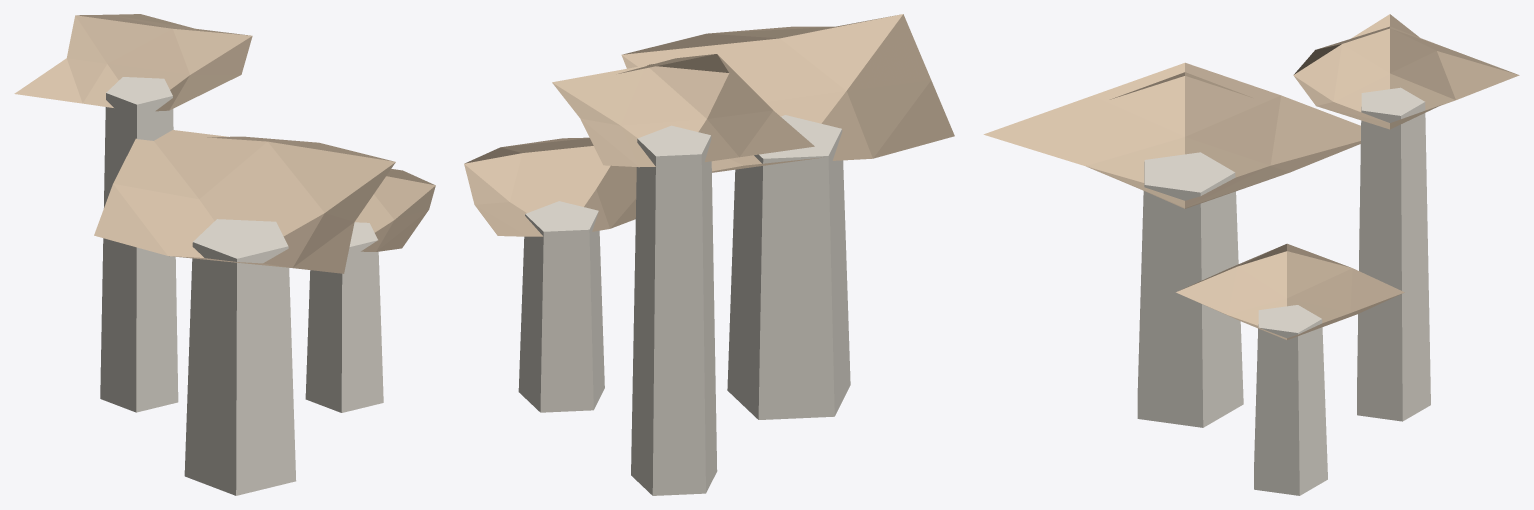
Rendered from mushroom_v13.glb.
3 views of the same model, side by side, from view 1: azimuth 30°, elevation 25°; view 2: azimuth 150°, elevation 25°; view 3: azimuth 270°, elevation 25° (orthographic). The views are drawn at different scales.
Visible parts, largest first — view 1: lod0; view 2: lod0; view 3: lod0.
Boxes of the visible parts, <box> form: lod0: <box>14,14,435,495</box>; lod0: <box>464,14,954,495</box>; lod0: <box>983,14,1519,495</box>.
Size of what is drawn, in the model's own units: 0.4581 by 0.4244 by 0.5455.
